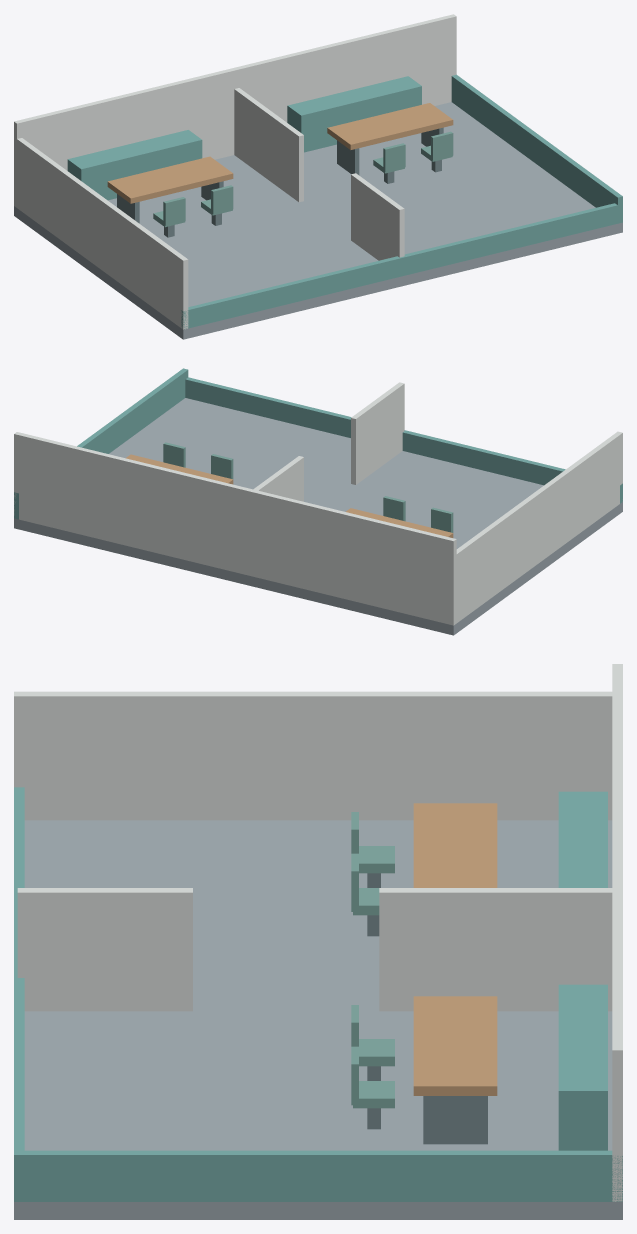
3 renders of one model, top to bottom at view 1: azimuth 30°, elevation 25°; view 2: azimuth 150°, elevation 25°; view 3: azimuth 270°, elevation 25°, orthographic. The views are drawn at different scales.
Visible parts, largest first — view 1: Floor slab, North wall, West wall, South sill, Storage (×2), Internal partition (×2), Worktop (×2), East sill, Chair back (×4), Trestle; view 2: North wall, Floor slab, West wall, South sill, Internal partition (×2), East sill, Chair back (×4), Worktop (×2); view 3: Floor slab, West wall, Internal partition (×2), East sill, Worktop (×2), Storage (×2), North wall, South sill, Trestle, Chair seat (×3).
Part boxes in pixels (box(x1,y1,x2,y2)): Floor slab: box(14, 102, 622, 339); North wall: box(14, 14, 456, 206); West wall: box(14, 137, 188, 329); South sill: box(181, 203, 622, 329); Storage (×2): box(67, 76, 421, 200); Internal partition (×2): box(234, 88, 404, 260); Worktop (×2): box(107, 103, 453, 203); East sill: box(451, 74, 622, 223); Chair back (×4): box(163, 131, 453, 225); Trestle: box(337, 140, 359, 175); North wall: box(14, 432, 456, 625); Floor slab: box(14, 398, 622, 635); West wall: box(448, 431, 622, 624); South sill: box(185, 377, 622, 503); Internal partition (×2): box(231, 382, 404, 571); East sill: box(14, 368, 188, 519); Chair back (×4): box(163, 442, 453, 532); Worktop (×2): box(126, 454, 453, 537); Floor slab: box(14, 820, 622, 1219); West wall: box(14, 691, 612, 820); Internal partition (×2): box(17, 888, 612, 1011); East sill: box(14, 1150, 622, 1201); Worktop (×2): box(413, 803, 497, 1095); Storage (×2): box(558, 791, 607, 1150); North wall: box(612, 664, 622, 1201); South sill: box(14, 787, 24, 1201); Trestle: box(423, 1096, 487, 1144); Chair seat (×3): box(353, 846, 394, 1108).
Size of the model in its own units: 12 by 2.46 by 8.
